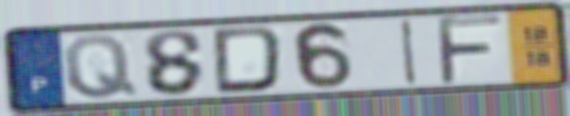6: (289, 20, 356, 92)
8: (139, 29, 207, 98)
D: (210, 23, 287, 96)
F: (433, 13, 506, 88)
I: (399, 17, 420, 88)
Q: (60, 33, 142, 102)
